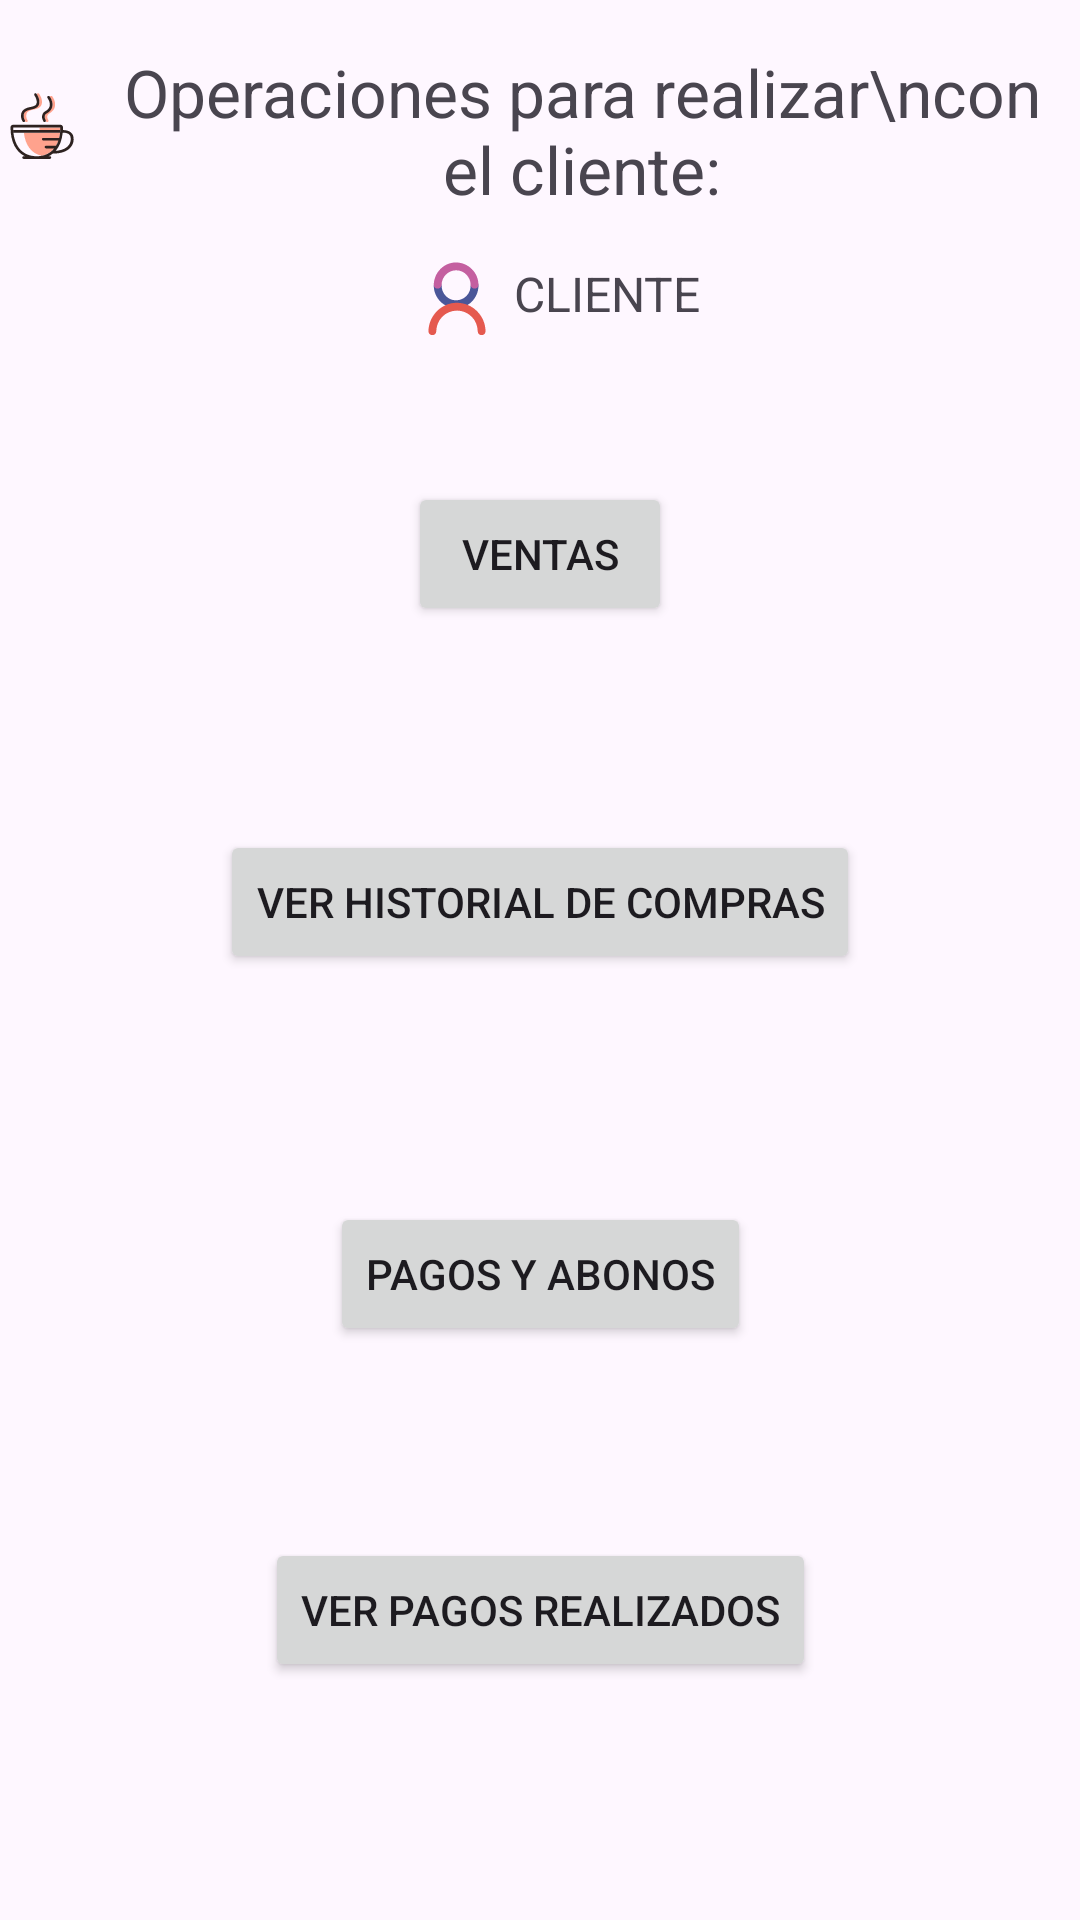

Icons on this 1080*1920 Android screen, each with the point to tap as point (x, y):
coffe: point (42, 126)
user: point (457, 298)
